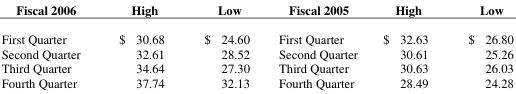table: (0, 0, 512, 90)
table column: (263, 0, 369, 90), (0, 0, 99, 90), (99, 0, 183, 90), (183, 0, 263, 90), (369, 0, 447, 90), (447, 0, 512, 90)
table column header: (0, 0, 512, 24)
table row: (0, 0, 512, 24), (0, 24, 512, 45), (0, 74, 512, 90), (0, 45, 512, 60), (0, 60, 512, 74)
